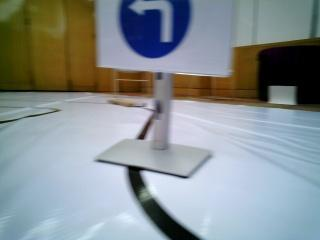left: (96, 0, 214, 65)
